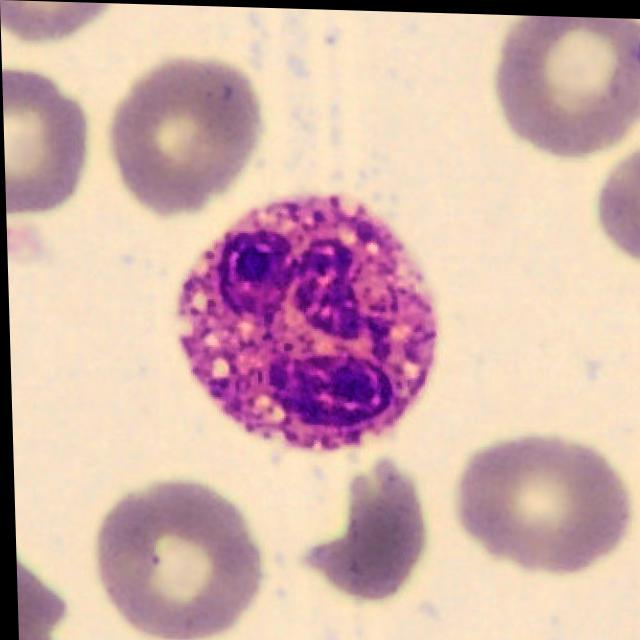Neutrofilo segmentado: (177, 194, 436, 452)
